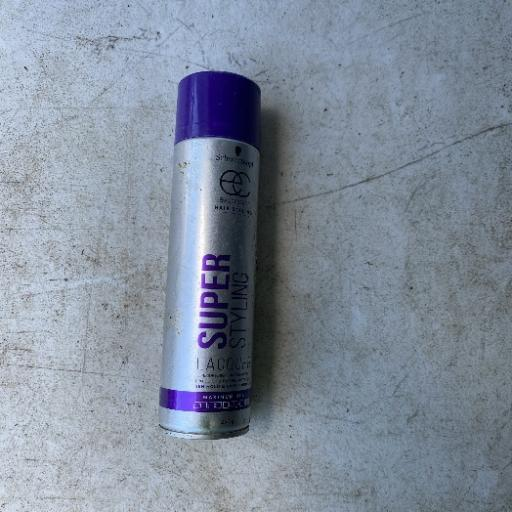Metal: (156, 68, 263, 441)
